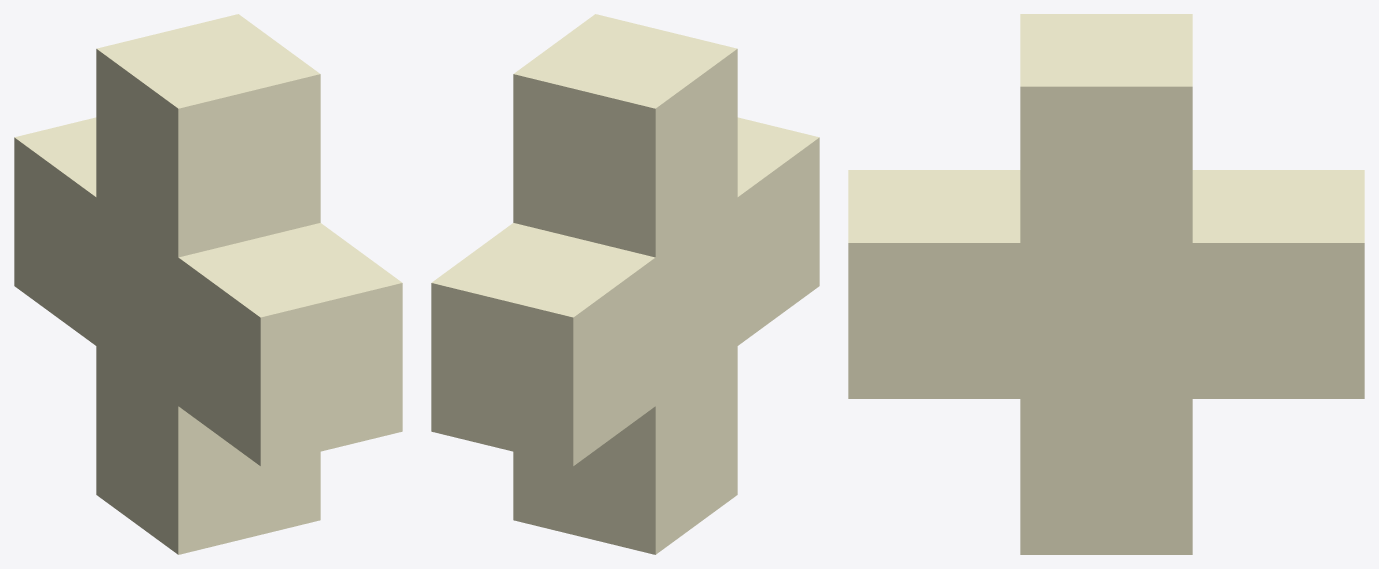
File: estrelasflat-1.obj
3 renders of one model, left to right at view 1: azimuth 30°, elevation 25°; view 2: azimuth 150°, elevation 25°; view 3: azimuth 270°, elevation 25°, orthographic. The views are drawn at different scales.
Size of the model in its own units: 0.1 by 0.3 by 0.3.
1 material, 1 textured.
